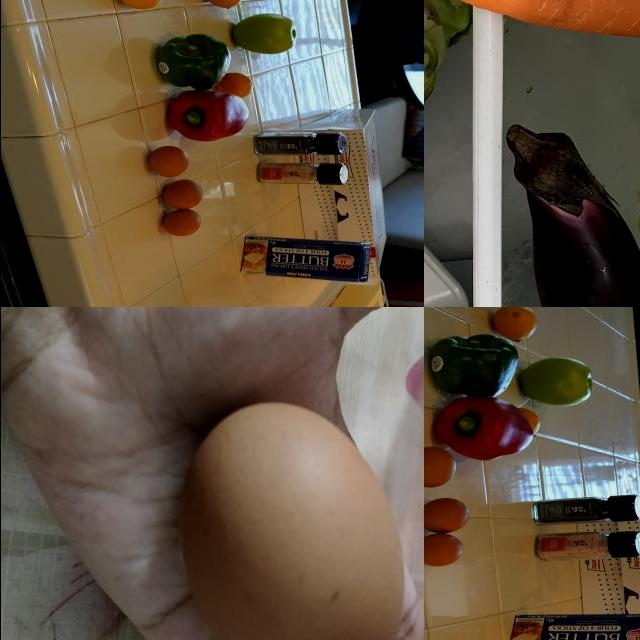bell_pepper: (424, 338, 518, 398), (439, 401, 534, 459), (164, 87, 250, 145), (156, 31, 232, 96), (251, 131, 349, 163), (540, 494, 640, 524)
cabbage: (424, 1, 478, 168)
carrot: (427, 1, 640, 42)
egg: (177, 402, 412, 640), (147, 144, 192, 180), (424, 500, 473, 533), (424, 534, 470, 566), (159, 181, 205, 213), (424, 446, 458, 489), (158, 212, 204, 241)
eggplant: (502, 121, 640, 308)
